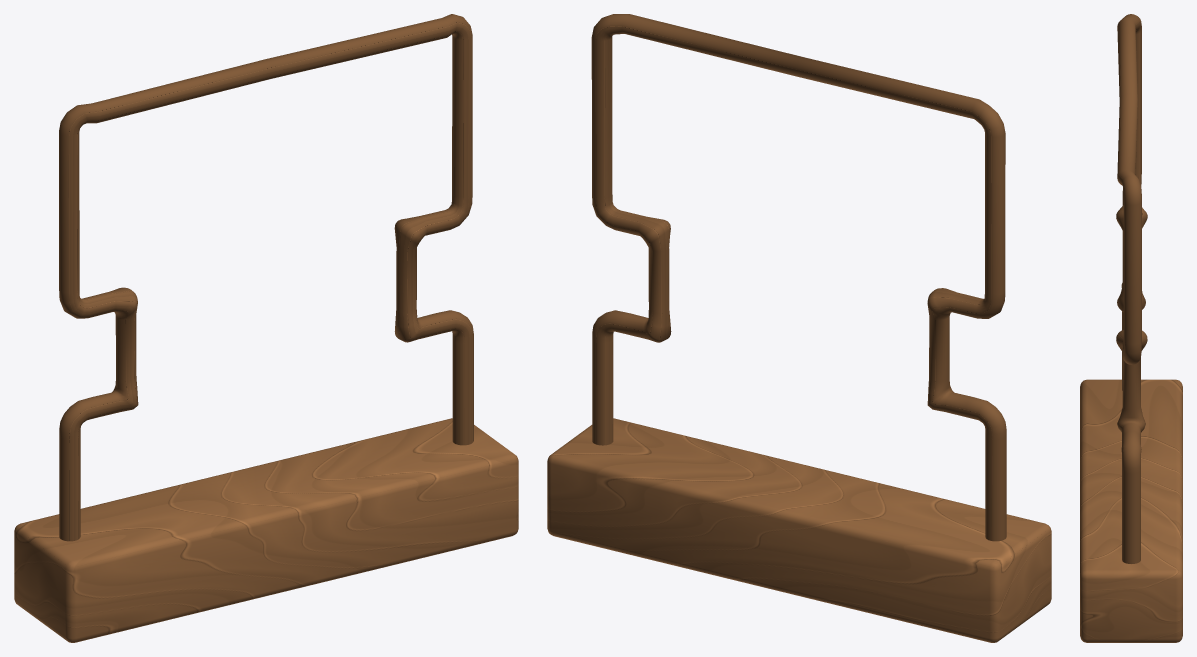
Rendered from TTL.fbx.
3 views of the same model, side by side, from view 1: azimuth 30°, elevation 25°; view 2: azimuth 150°, elevation 25°; view 3: azimuth 270°, elevation 25° (orthographic). The views are drawn at different scales.
Visible parts, largest first — view 1: ttl; view 2: ttl; view 3: ttl.
Part boxes in pixels (x1,y1,x2,y2): ttl: (14, 14, 518, 642); ttl: (547, 14, 1051, 642); ttl: (1080, 14, 1182, 642).
Size of the model in its own units: 49.09 by 53.1 by 10.9.
